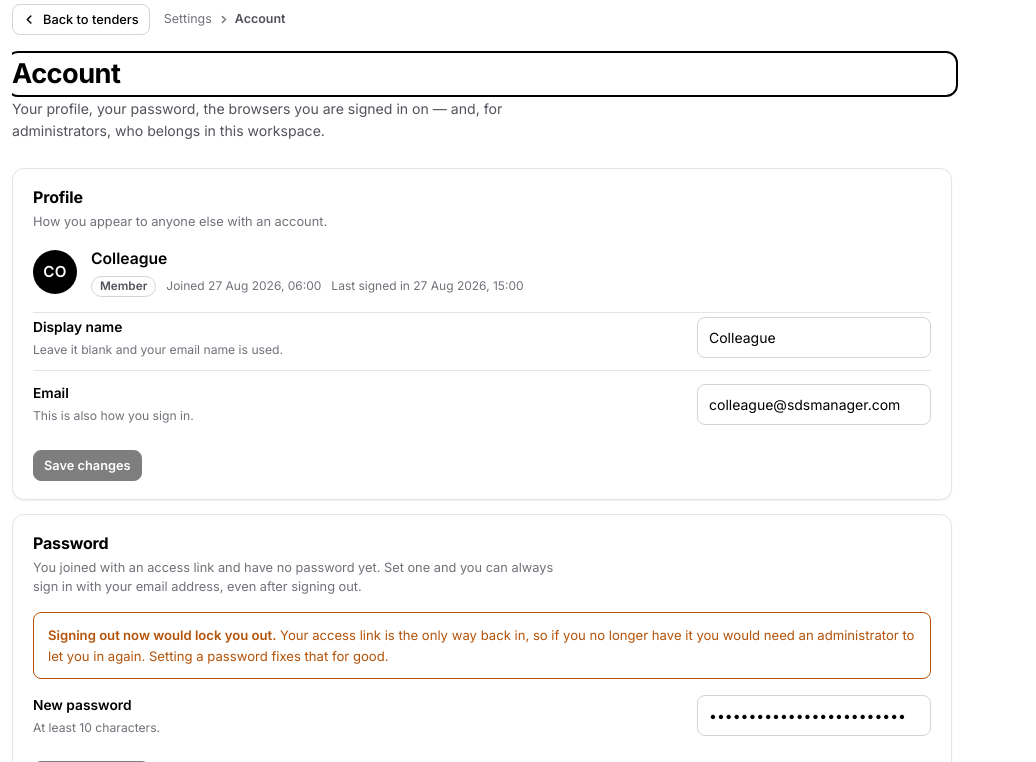
an account with no password › sends null rather than an empty string for the password it does not have
Type "a-brand-new-long-password" into the password field at point(814, 716), box [697,695,931,736]
(page scrolled)
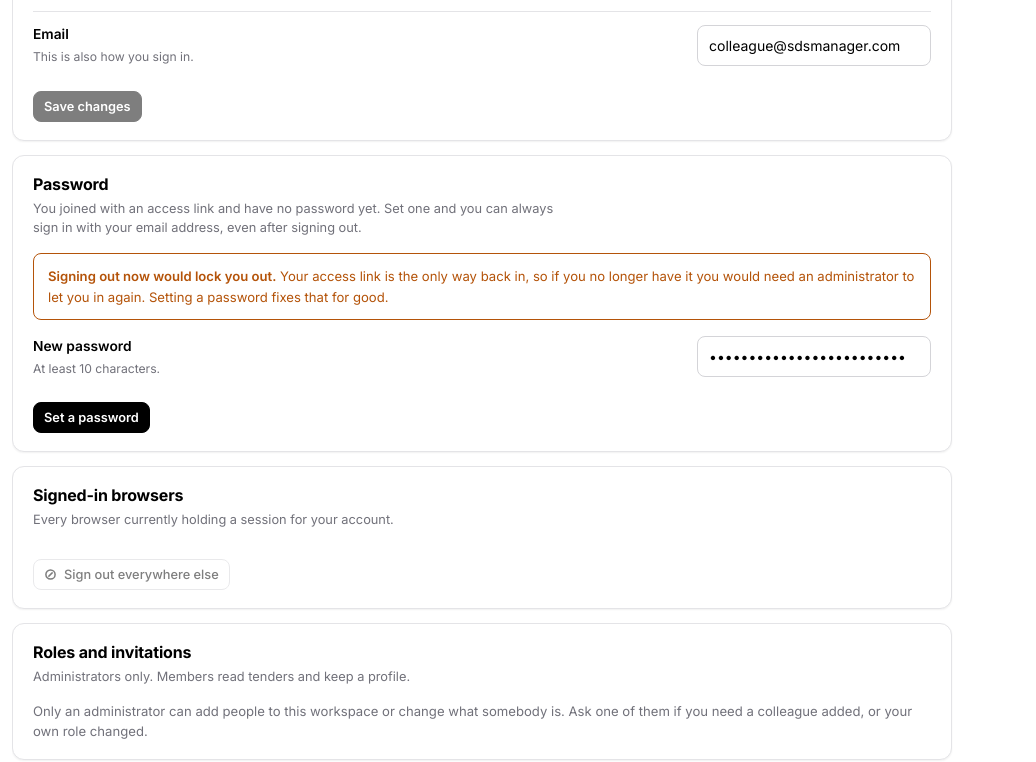
Submit the form "New password At least 10 characters. Set a password", box [33,336,931,434]
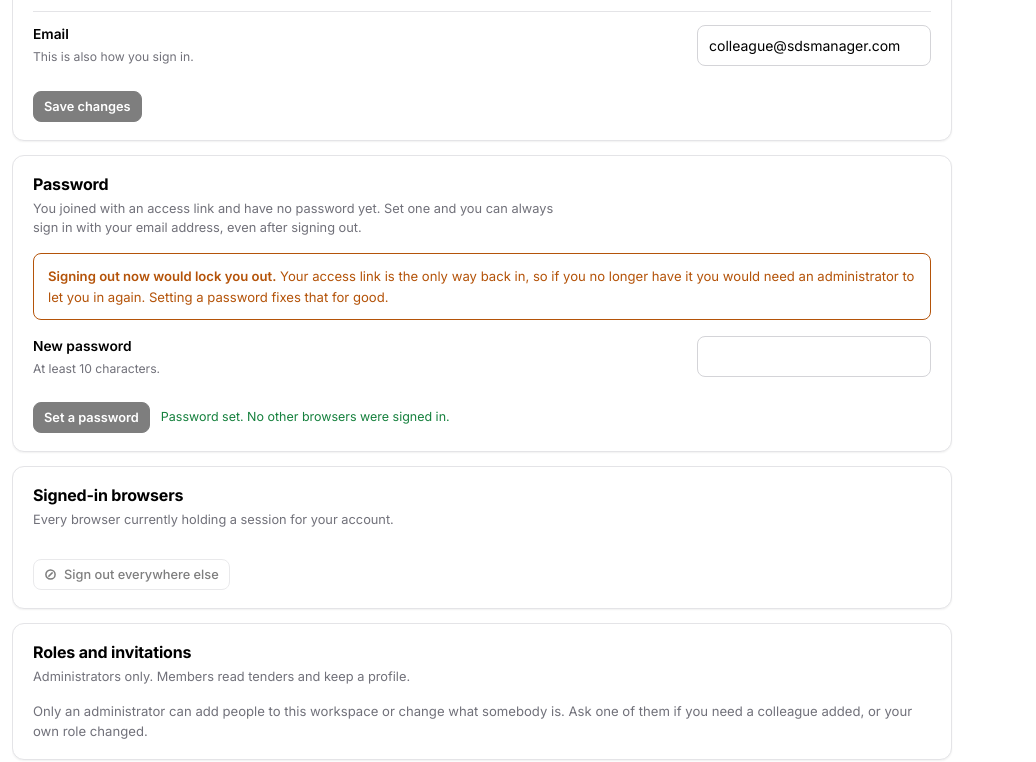
Now the text "Password set" is shown, box [161,410,450,424]
